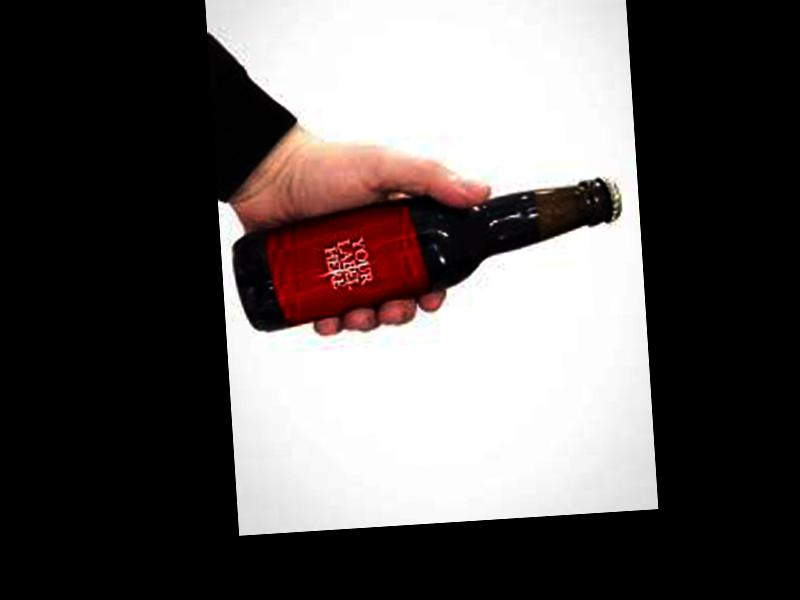Beer: (230, 173, 630, 334)
